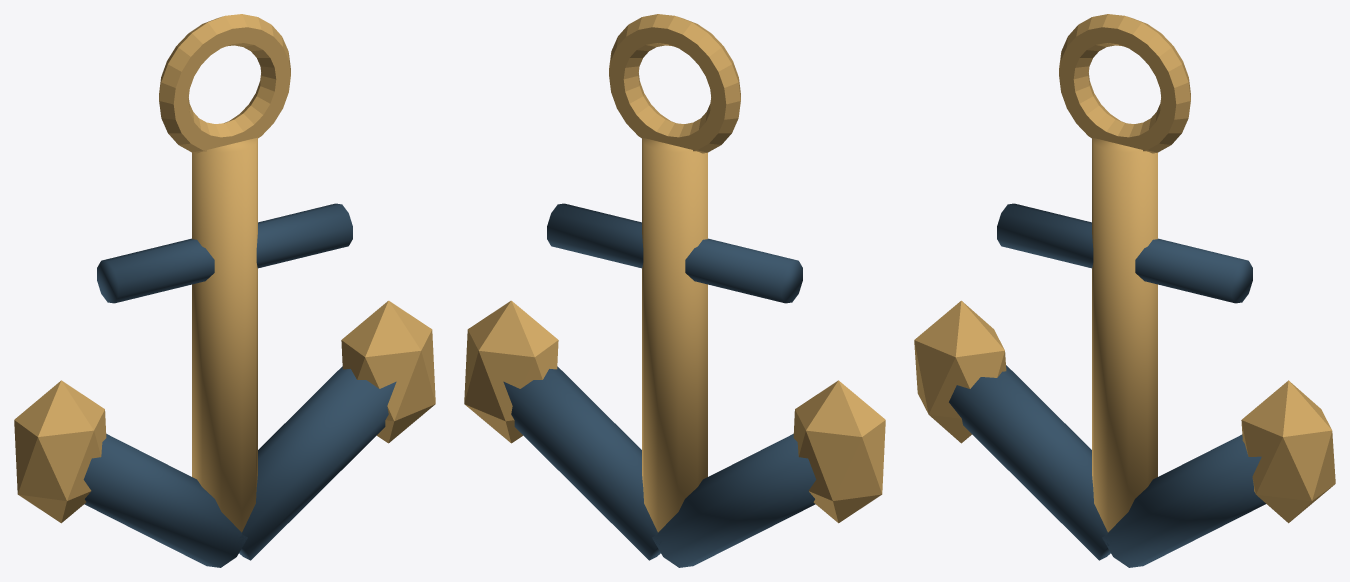
File: relic-whiteAnchor.glb
The picture shows the model from 3 angles, left to right: view 1: azimuth 30°, elevation 25°; view 2: azimuth 150°, elevation 25°; view 3: azimuth 330°, elevation 25°; orthographic projection.
Visible parts, largest first — view 1: relic-whiteAnchor / Brass | machined champagne, relic-whiteAnchor / Paint | Prussian blue; view 2: relic-whiteAnchor / Brass | machined champagne, relic-whiteAnchor / Paint | Prussian blue; view 3: relic-whiteAnchor / Brass | machined champagne, relic-whiteAnchor / Paint | Prussian blue.
Boxes of the visible parts, x1,y1,x2,y2 form: relic-whiteAnchor / Brass | machined champagne: (14, 14, 435, 532); relic-whiteAnchor / Paint | Prussian blue: (83, 203, 396, 567); relic-whiteAnchor / Brass | machined champagne: (464, 14, 885, 532); relic-whiteAnchor / Paint | Prussian blue: (503, 203, 816, 567); relic-whiteAnchor / Brass | machined champagne: (914, 14, 1335, 532); relic-whiteAnchor / Paint | Prussian blue: (949, 203, 1265, 567).
Bounding box in the file's own units: 1.7 × 2.14 × 0.2722.
